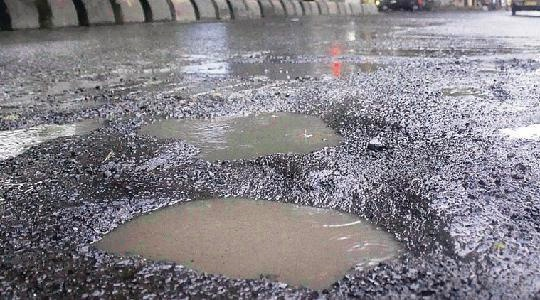pothole: (80, 179, 443, 292), (127, 98, 366, 164)
